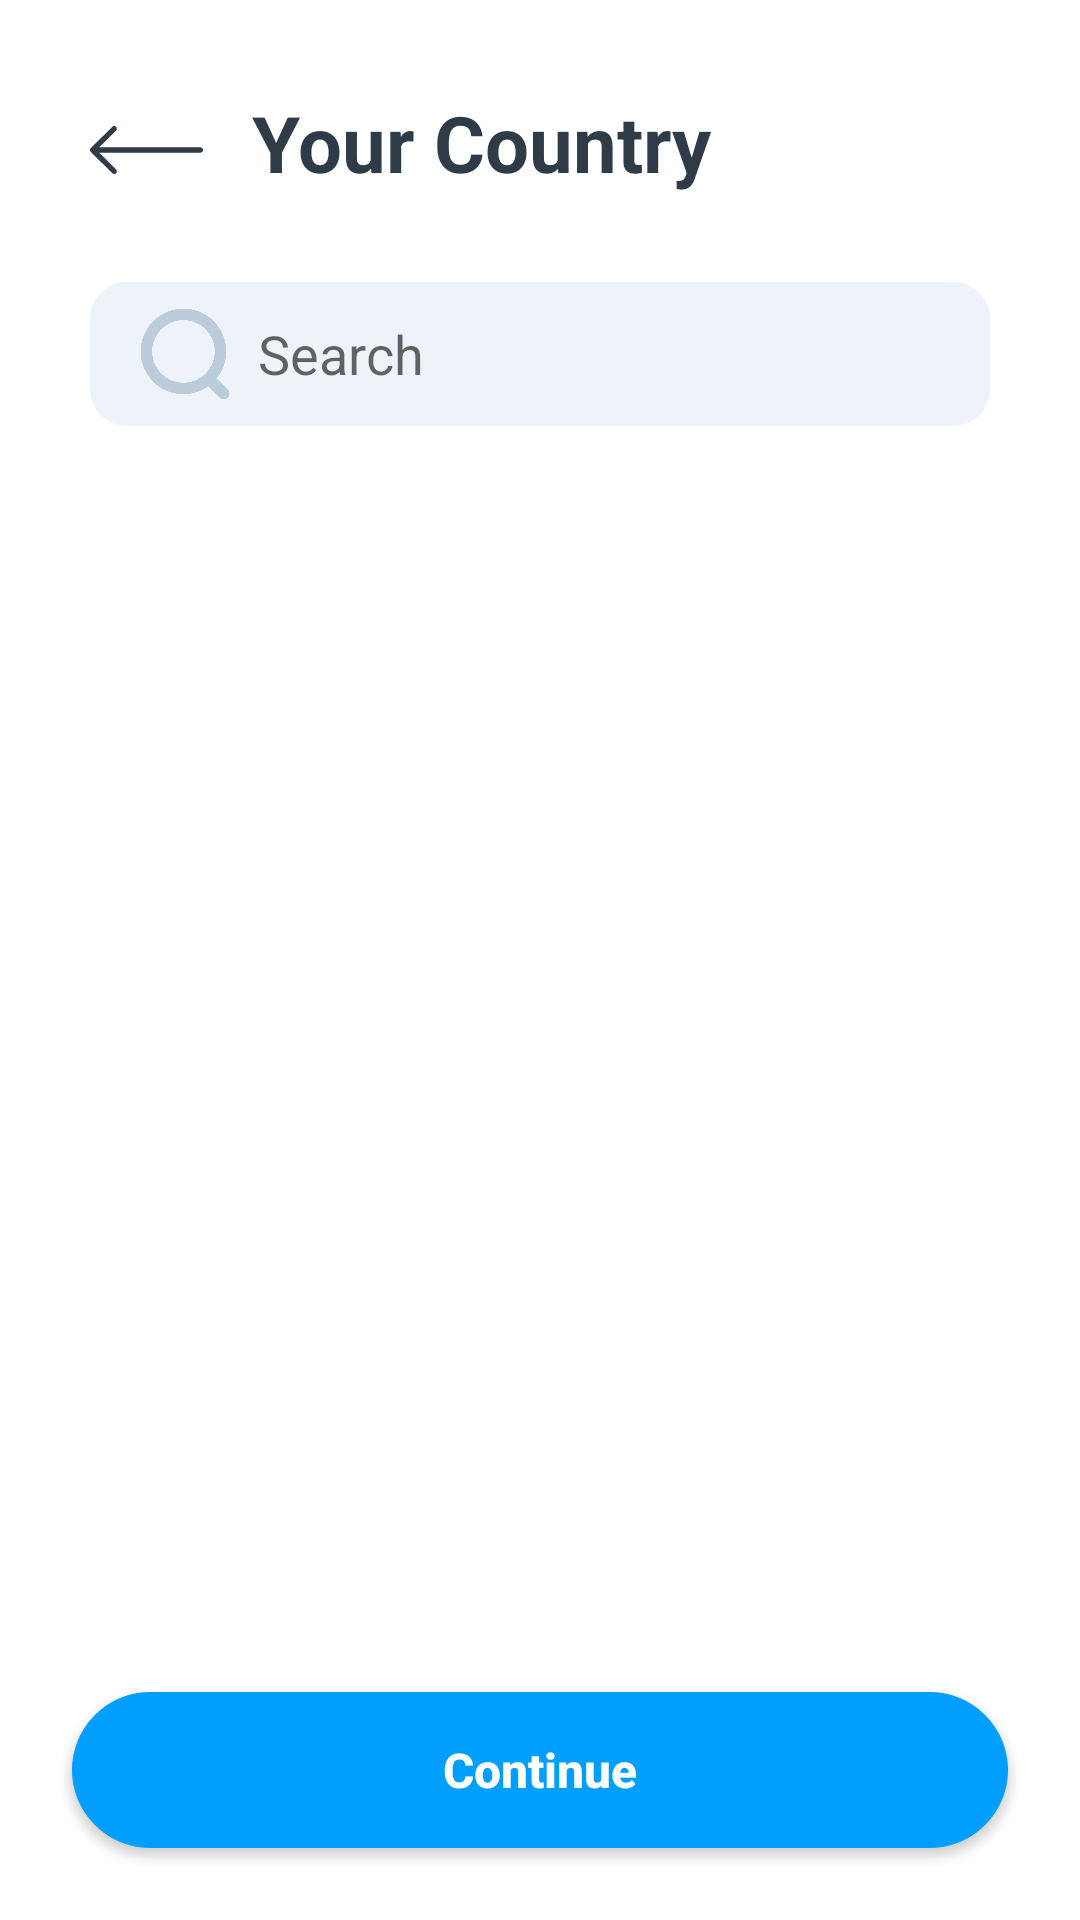

Where to tap for icons on this 1080px x 1920px app screen, as (x=x, y=y):
backward: (x=146, y=150)
